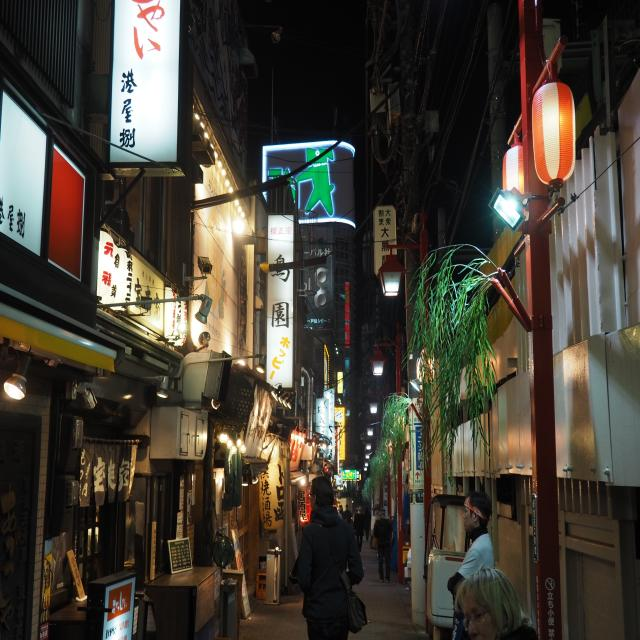body: (295, 474, 369, 640), (447, 489, 496, 640), (452, 566, 540, 640), (41, 503, 107, 594), (124, 476, 146, 574), (373, 508, 392, 584), (334, 481, 369, 503), (353, 506, 364, 552), (364, 508, 372, 542), (344, 504, 352, 523), (338, 504, 344, 520), (352, 507, 358, 522), (353, 524, 359, 539), (337, 506, 343, 520)
